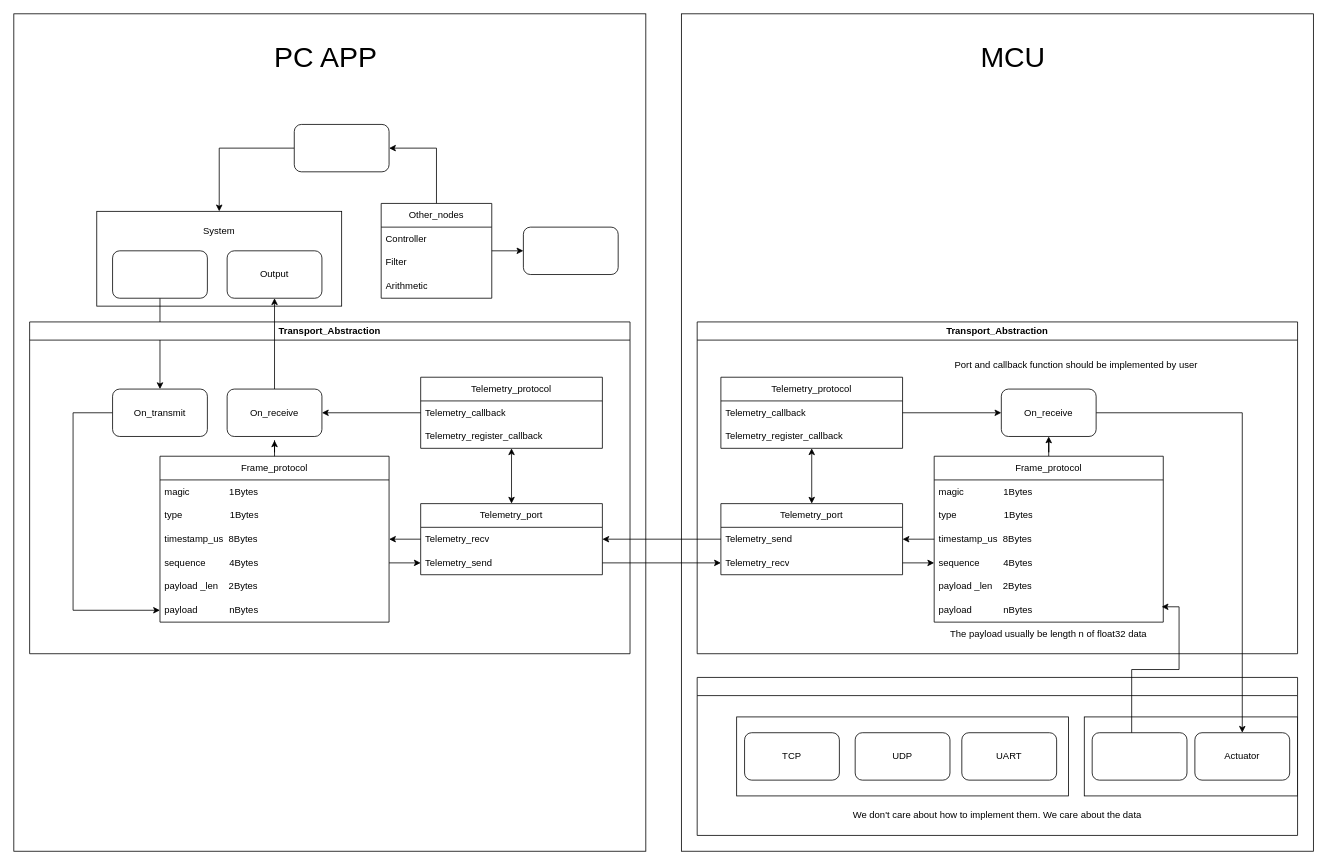
Image size: 1327x865. Some labels were removed from this diagram. The shapes that lost their labels are listed below. From the top down, each one's box as (x1, y1, x2, y2) in pixels, then its label:
(293, 124, 389, 172): Feedback
(523, 226, 618, 275): Sink
(112, 250, 207, 298): Input
(696, 677, 1298, 835): Hardware_interfaces
(1091, 732, 1187, 780): Sensor
